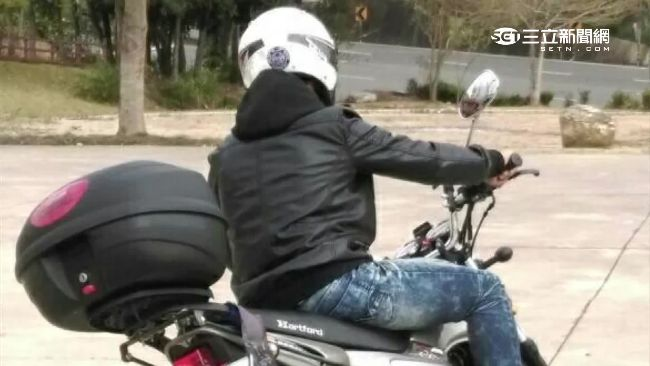helmet: (238, 15, 350, 89)
